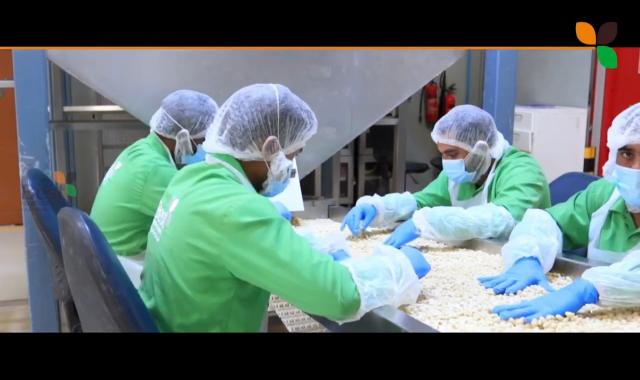hairnet: (210, 86, 325, 156), (430, 102, 512, 164), (150, 88, 217, 137), (604, 102, 640, 147)
